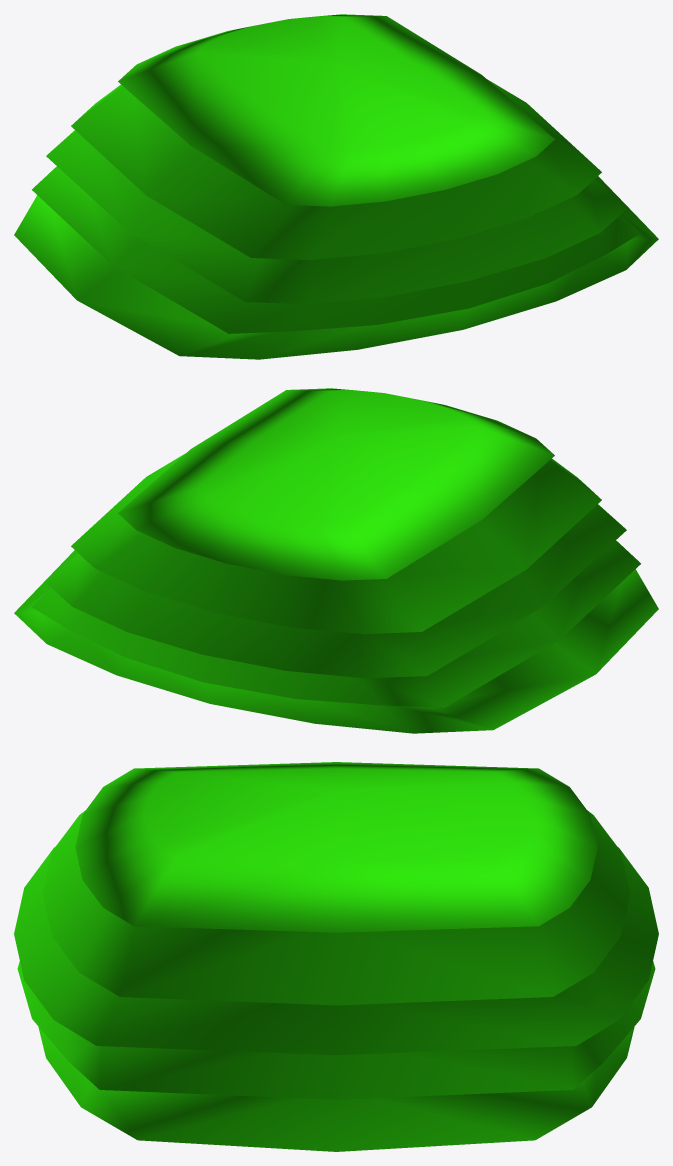
File: buisson.glb
The picture shows the model from 3 angles, top to bottom: view 1: azimuth 30°, elevation 25°; view 2: azimuth 150°, elevation 25°; view 3: azimuth 270°, elevation 25°; orthographic projection. The views are drawn at different scales.
Parts seen in each view (by area): view 1: Cylinder; view 2: Cylinder; view 3: Cylinder.
Part boxes in pixels (x1,y1,x2,y2): Cylinder: (14, 14, 658, 359); Cylinder: (14, 388, 658, 733); Cylinder: (14, 762, 658, 1151).
Size of the model in its own units: 1.53 by 0.552 by 1.37.
